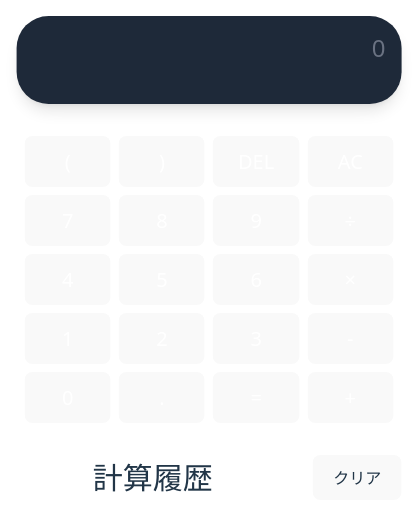
Calculatorコンポーネント › 式の最初に使えない演算子を入力するとエラーを表示する
The image size is (419, 509).
# 先頭に × を入力（hasStartError が true になるパターン）
Type "×1" into the field named "式". click: (209, 48)
box: [33,32,385,64]
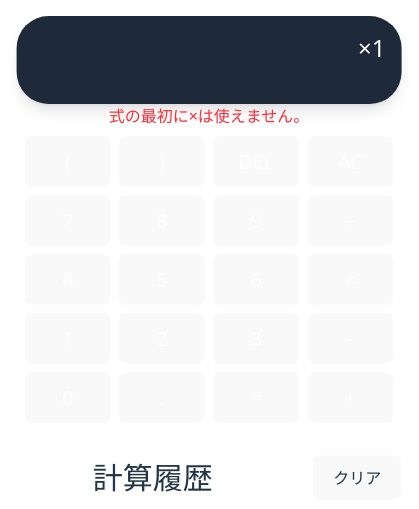
Now the text "式の最初に×は使えません。" is shown, box [109,105,309,127]
